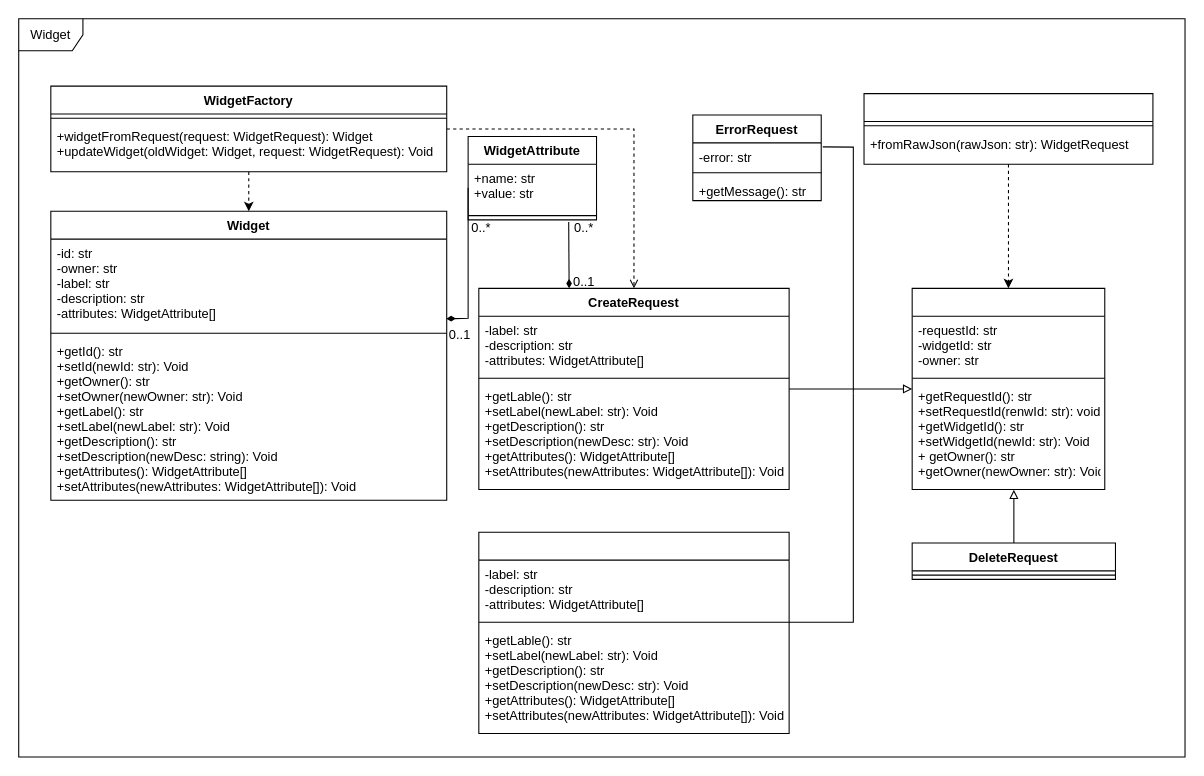
Image size: 1204x776. Some labels were removed from this diagram. Here are the shapes that lost their labels. From the top down, the box of each, then its label:
(863, 93, 1153, 164): WidgetRequestFactory
(911, 287, 1105, 490): WidgetRequest
(478, 531, 789, 733): UpdateRequest
